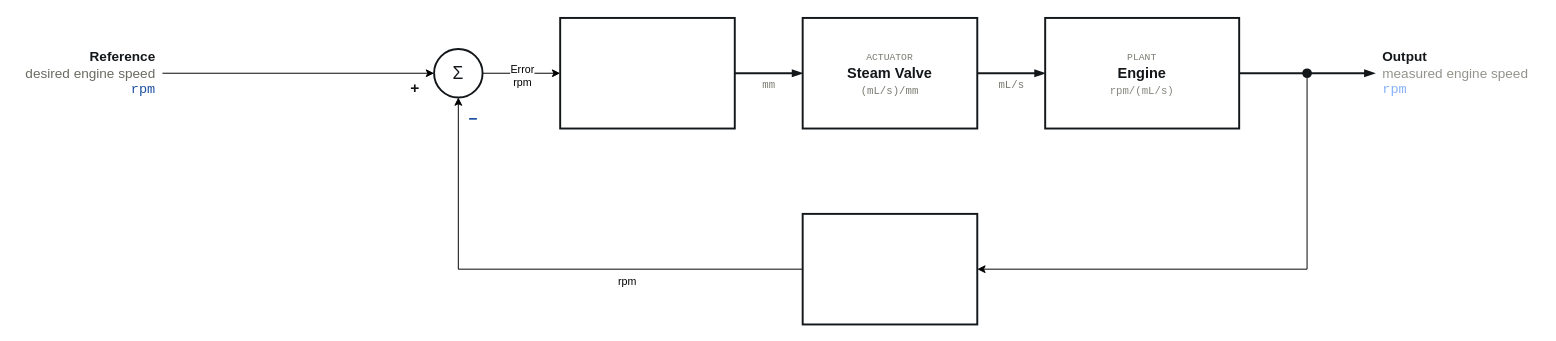
The diagram is 1556 pixels wide and 341 high, and some of its shapes have lost their labels. The centre of each missing label's shape, as x and y in pixels:
"CONTROLLER Flyball height mm/rpm" goes at [647,72].
"Sensor Flyball Speed rpm" goes at [889,268].
